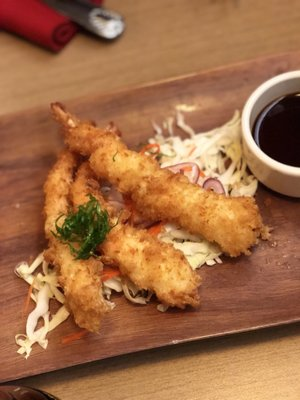curry: (54, 196, 110, 260)
